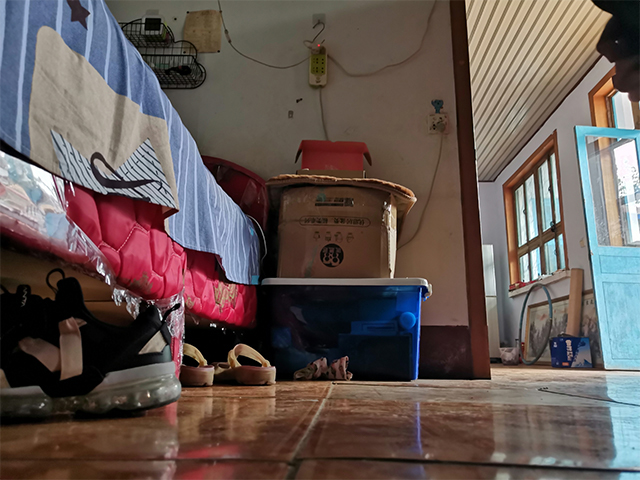slippers: (179, 341, 278, 388)
socks: (291, 354, 356, 382)
sofa: (3, 1, 273, 407)
trashcan: (498, 345, 521, 367)
